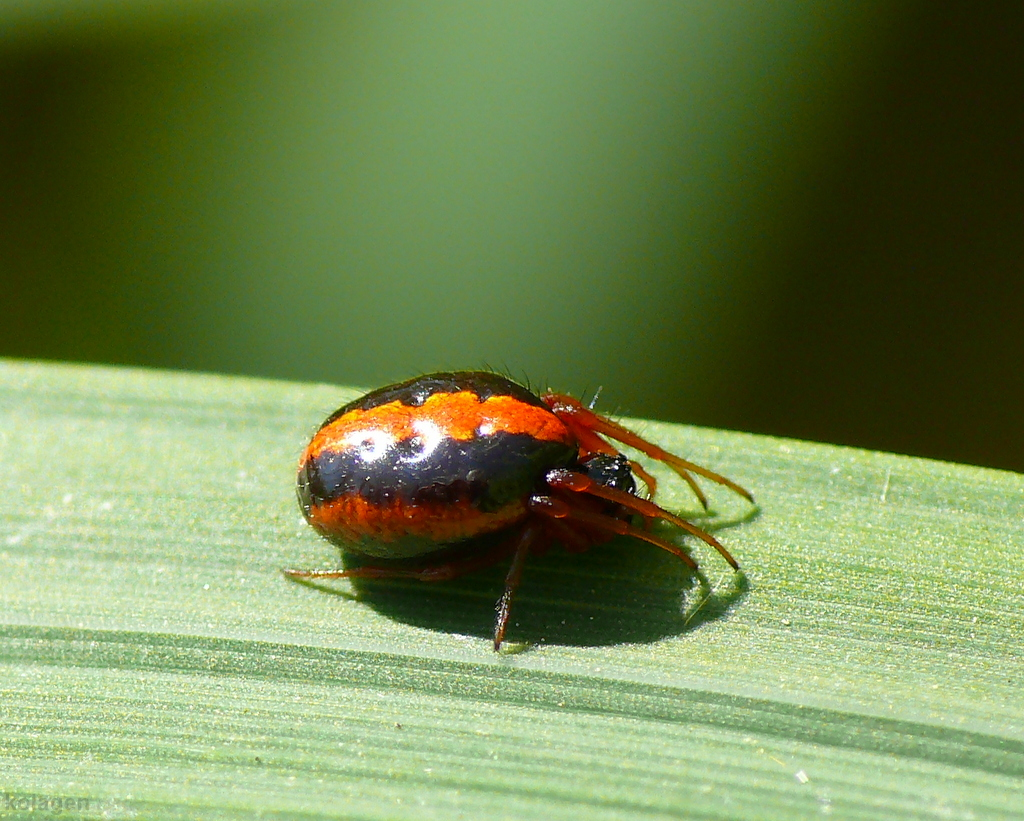spider: (266, 339, 754, 667)
